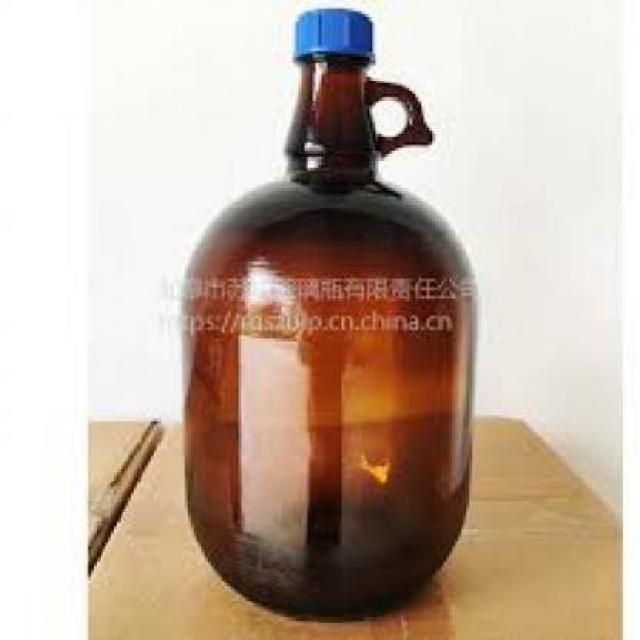kaca: (180, 48, 469, 620)
